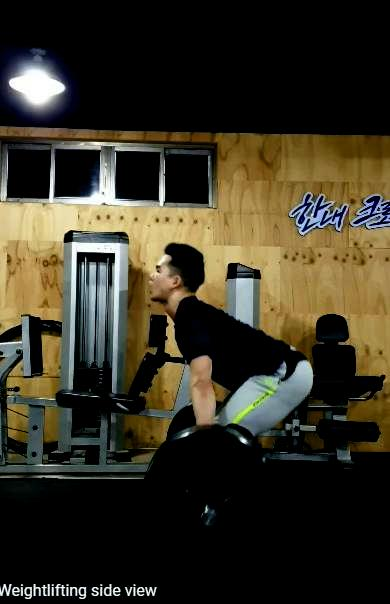Barbell: (196, 508, 222, 530)
